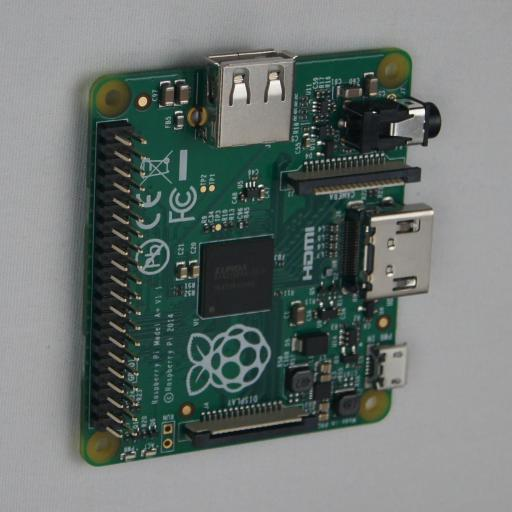Raspberry Pi A-: (71, 48, 441, 466)
